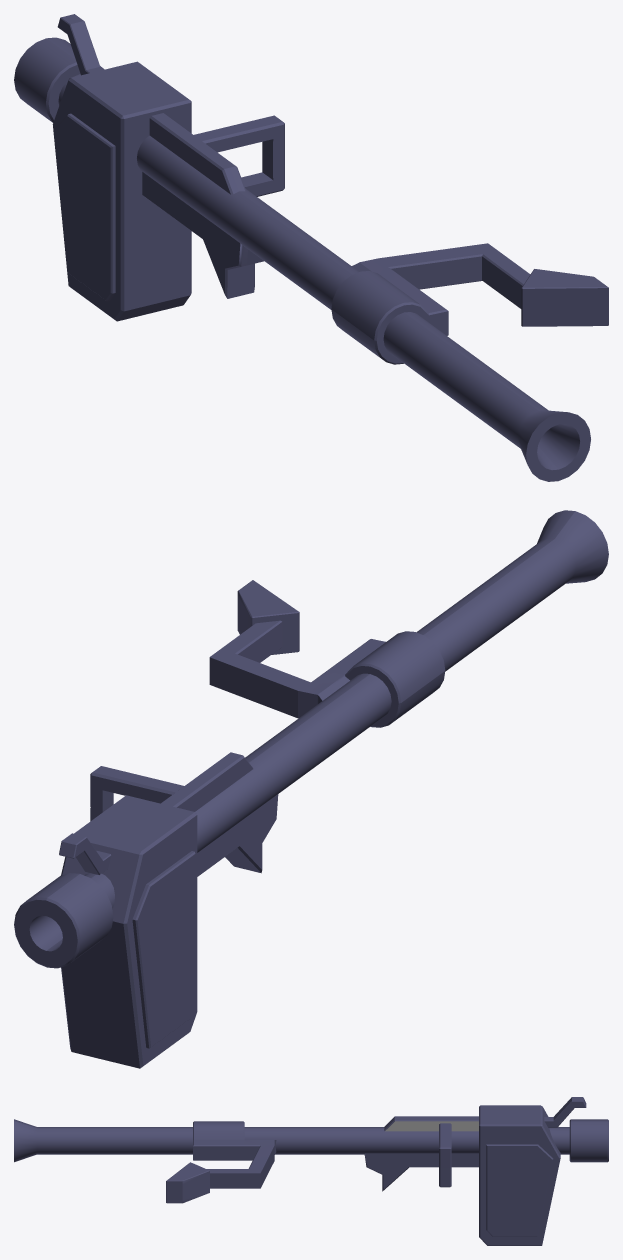
File: rokeran2.fbx
The picture shows the model from 3 angles, top to bottom: view 1: azimuth 30°, elevation 25°; view 2: azimuth 150°, elevation 25°; view 3: azimuth 270°, elevation 25°; orthographic projection. The views are drawn at different scales.
Visible parts, largest first — view 1: polySurface5, polySurface1, polySurface2, polySurface7, polySurface8, polySurface4; view 2: polySurface1, polySurface5, polySurface2, polySurface7, polySurface8, polySurface4; view 3: polySurface1, polySurface5, polySurface2, polySurface7, polySurface8, polySurface4.
Part boxes in pixels (x1,y1,x2,y2): polySurface5: (52, 61, 191, 321); polySurface1: (14, 37, 590, 481); polySurface2: (331, 243, 608, 364); polySurface7: (142, 113, 263, 298); polySurface8: (194, 115, 284, 196); polySurface4: (57, 14, 103, 75); polySurface1: (14, 510, 608, 968); polySurface5: (61, 795, 197, 1068); polySurface2: (209, 580, 445, 727); polySurface7: (161, 752, 278, 876); polySurface8: (90, 766, 183, 821); polySurface4: (59, 833, 111, 874); polySurface1: (14, 1119, 608, 1162); polySurface5: (479, 1105, 560, 1245); polySurface2: (166, 1121, 276, 1203); polySurface7: (364, 1116, 478, 1191); polySurface8: (439, 1123, 451, 1187); polySurface4: (544, 1097, 586, 1127).
Bounding box in the file's own units: 7.26 × 7.44 × 29.15.
